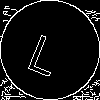L: (25, 25, 68, 78)
